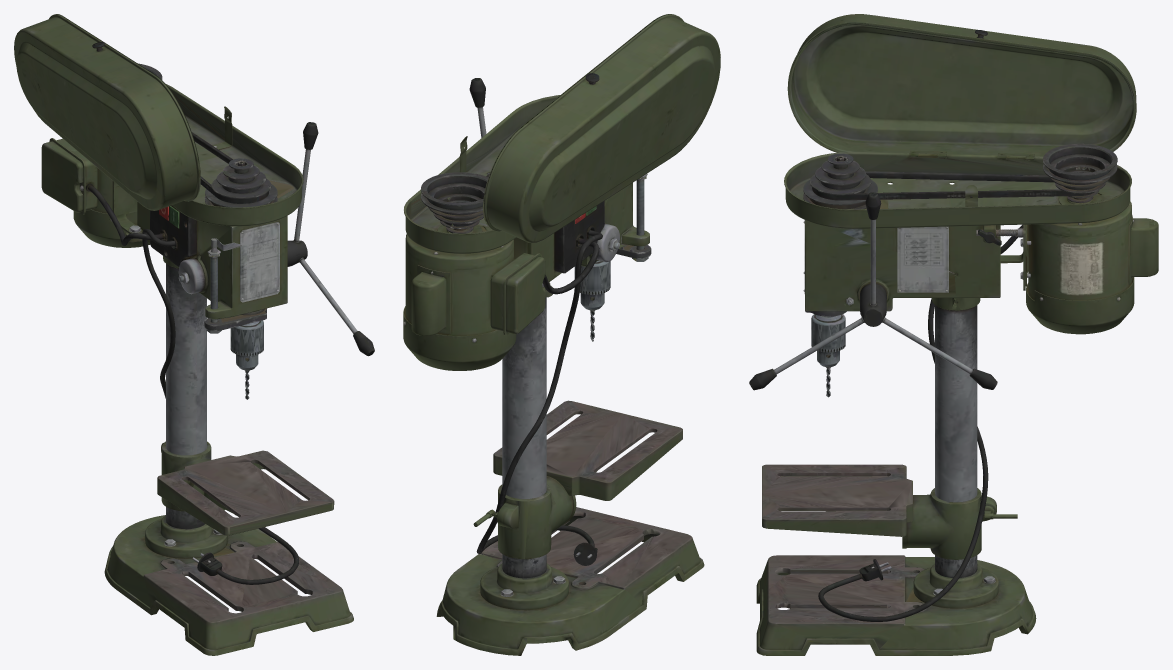
Rendered from drill-press-01.glb.
3 views of the same model, side by side, from view 1: azimuth 30°, elevation 25°; view 2: azimuth 150°, elevation 25°; view 3: azimuth 270°, elevation 25° (orthographic). The views are drawn at different scales.
Parts seen in each view (by area): view 1: drill_press_01; view 2: drill_press_01; view 3: drill_press_01.
Part boxes in pixels (left/top/right/bottom): drill_press_01: left=14, top=14, right=374, bottom=655; drill_press_01: left=403, top=14, right=720, bottom=655; drill_press_01: left=749, top=14, right=1158, bottom=655.
Bounding box in the file's own units: 0.3542 × 0.9011 × 0.5985.
1 material, 1 textured.
